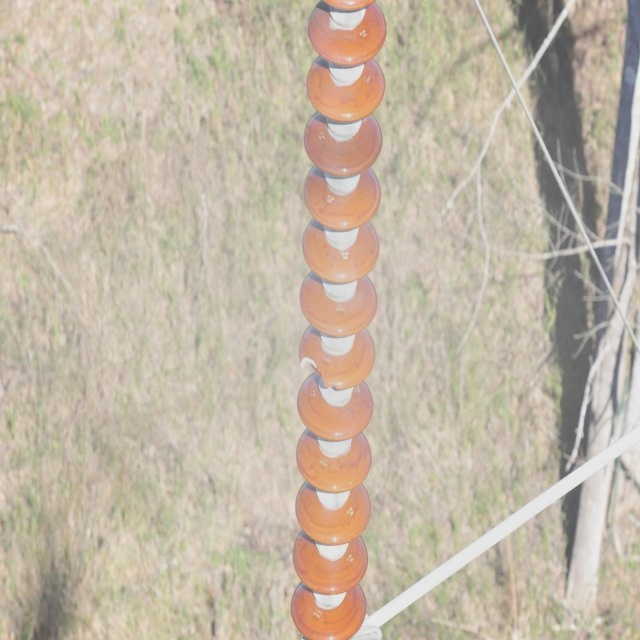broken: (299, 353, 348, 395)
insulator: (290, 0, 388, 638)
